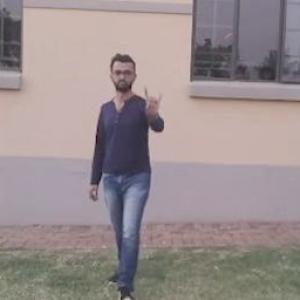takeoff-hand: (140, 78, 168, 118)
